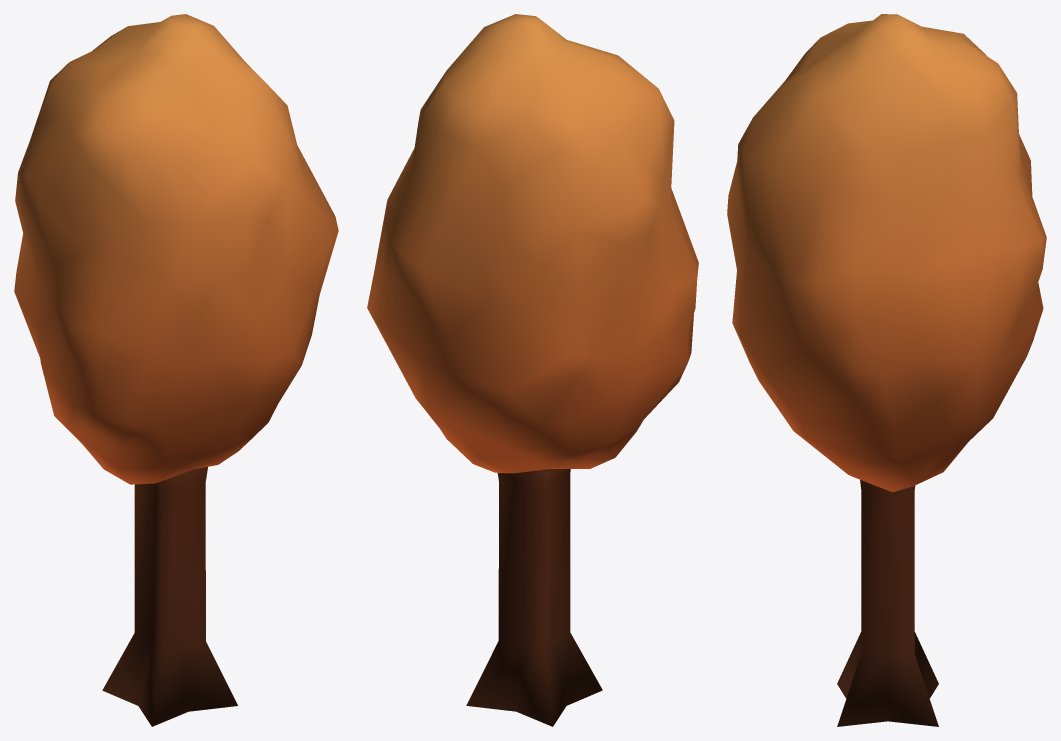
The model's file is AutumnTree1.fbx.
3 renders of one model, left to right at view 1: azimuth 30°, elevation 25°; view 2: azimuth 150°, elevation 25°; view 3: azimuth 270°, elevation 25°, orthographic. The views are drawn at different scales.
Parts seen in each view (by area): view 1: Plane.001, Plane.004; view 2: Plane.001, Plane.004; view 3: Plane.001, Plane.004.
Boxes of the visible parts, left/top/right/bottom form: Plane.001: left=14, top=14, right=338, bottom=484; Plane.004: left=102, top=467, right=237, bottom=726; Plane.001: left=367, top=14, right=698, bottom=473; Plane.004: left=466, top=469, right=602, bottom=726; Plane.001: left=727, top=14, right=1046, bottom=492; Plane.004: left=837, top=480, right=938, bottom=726.
Bounding box in the file's own units: 294 × 706 × 295.
